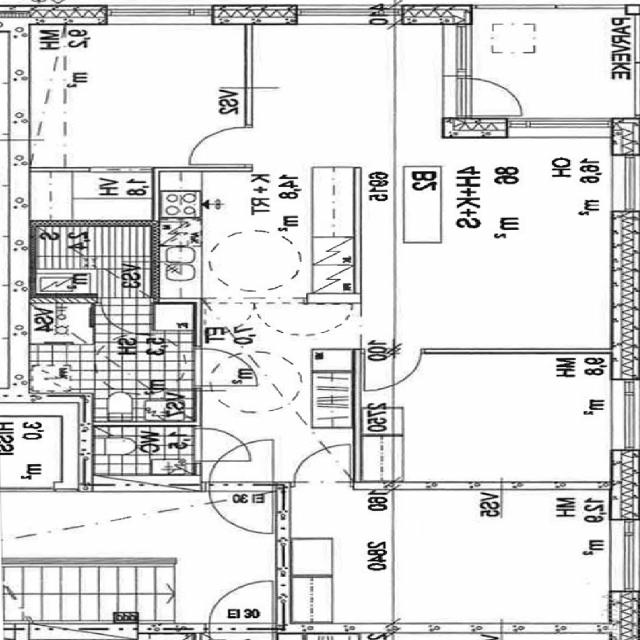door: (209, 439, 272, 492), (209, 482, 272, 534), (443, 78, 528, 116), (364, 348, 420, 392), (190, 127, 252, 165), (194, 349, 257, 386), (295, 445, 350, 487), (100, 297, 150, 335), (194, 429, 250, 461)
